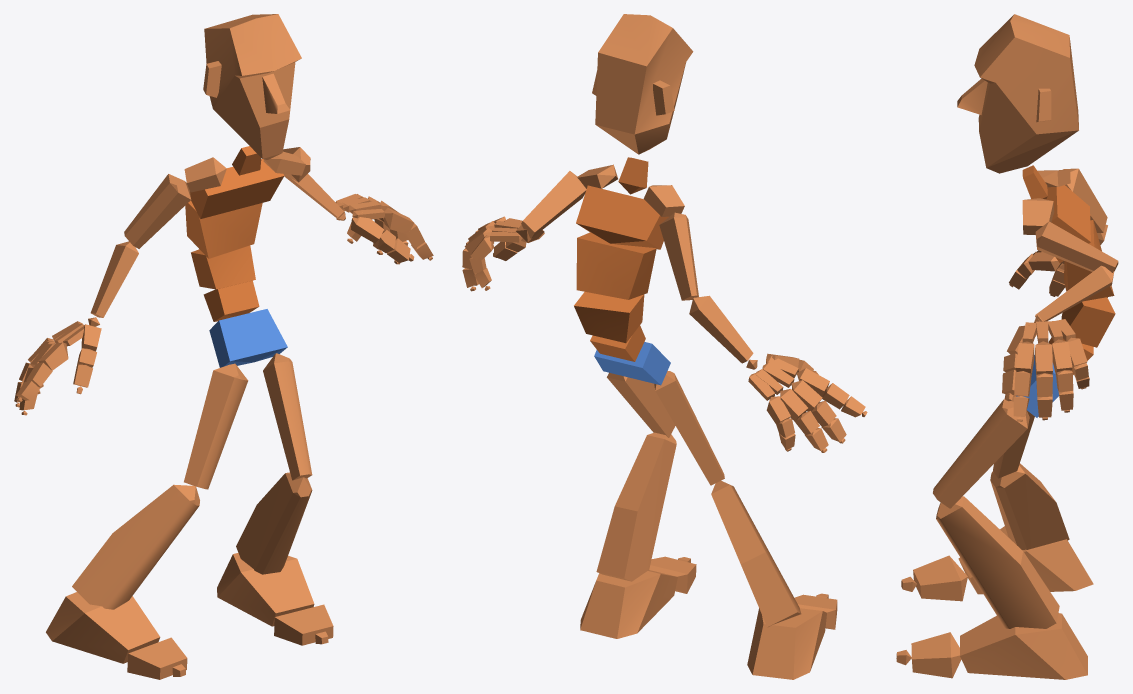
File: prueba82.obj
3 renders of one model, left to right at view 1: azimuth 30°, elevation 25°; view 2: azimuth 150°, elevation 25°; view 3: azimuth 270°, elevation 25°, orthographic. The views are drawn at different scales.
Parts seen in each view (by area): view 1: BOPED_Head, BOPED_R_leg, BOPED_R_foot, BOPED_L_leg, BOPED_R_foot01, BOPED_R_legup, BOPED_L_legup, Bone01, Bone04, Bone05, BOPED_R_arm_upper, Bone03 (+7 smaller); view 2: BOPED_Head, BOPED_L_leg, BOPED_R_leg, BOPED_R_foot01, BOPED_R_foot, Bone04, Bone05, Bone03, BOPED_R_legup, BOPED_R_arm_upper, BOPED_L_legup, BOPED_L_arm_upper (+8 smaller); view 3: BOPED_Head, BOPED_L_leg, BOPED_R_foot01, BOPED_R_leg, BOPED_L_legup, BOPED_R_foot, BOPED_L_arm_upper, BOPED_R_foot_toe01, BOPED_R_foot_toe04, Bone03, Bone05, BOPED_L_arm_fore (+15 smaller).
Boxes of the visible parts, x1,y1,x2,y2 form: BOPED_Head: (203,14,301,159); BOPED_R_leg: (72,484,199,609); BOPED_R_foot: (46,592,160,663); BOPED_L_leg: (236,472,312,574); BOPED_R_foot01: (217,553,314,626); BOPED_R_legup: (184,363,248,489); BOPED_L_legup: (263,353,312,480); Bone01: (209,309,287,367); Bone04: (185,200,262,258); Bone05: (190,159,284,218); BOPED_R_arm_upper: (124,174,191,248); Bone03: (191,245,255,289); BOPED_Head: (592,14,693,154); BOPED_L_leg: (596,432,676,581); BOPED_R_leg: (711,481,801,627); BOPED_R_foot01: (580,570,677,638); BOPED_R_foot: (747,608,826,679); Bone04: (576,232,656,299); Bone05: (576,185,668,249); Bone03: (574,292,644,343); BOPED_R_legup: (654,371,724,485); BOPED_R_arm_upper: (659,212,698,300); BOPED_L_legup: (607,372,675,437); BOPED_L_arm_upper: (521,171,586,238); BOPED_Head: (957,14,1078,173); BOPED_L_leg: (936,496,1059,628); BOPED_R_foot01: (960,613,1087,679); BOPED_R_leg: (990,463,1069,549); BOPED_L_legup: (933,399,1029,508); BOPED_R_foot: (958,526,1093,594); BOPED_L_arm_upper: (1035,221,1118,272); BOPED_R_foot_toe01: (913,555,967,601); BOPED_R_foot_toe04: (911,632,961,678); Bone03: (1061,297,1115,347); Bone05: (1046,185,1090,262); BOPED_L_arm_fore: (1035,265,1114,321).
Size of the model in its own units: 130 by 181 by 57.24.
